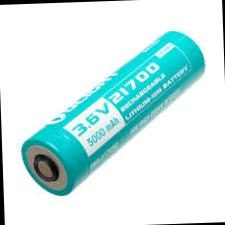battery: (5, 26, 223, 200)
